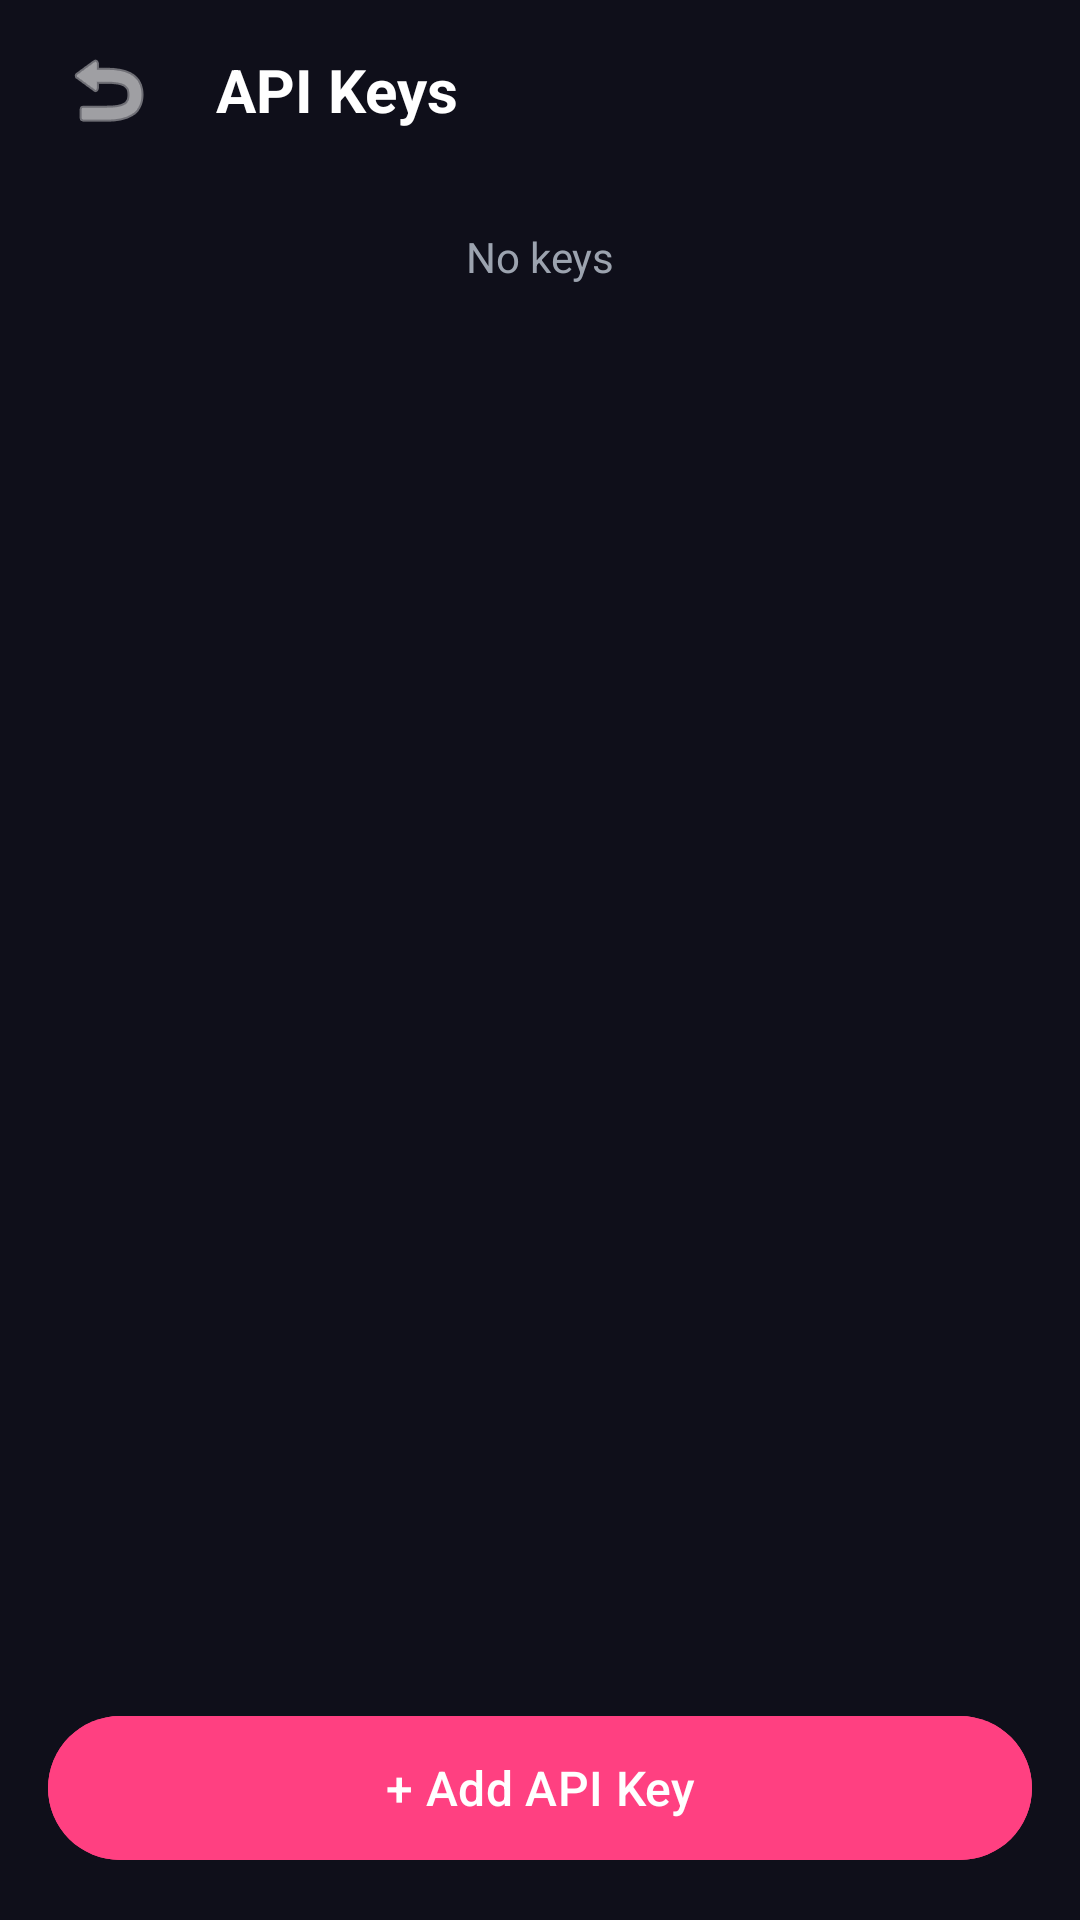

Icons on this 1080x1920 Android screen, each with the point to tap as (x,y):
Back: (109,90)
